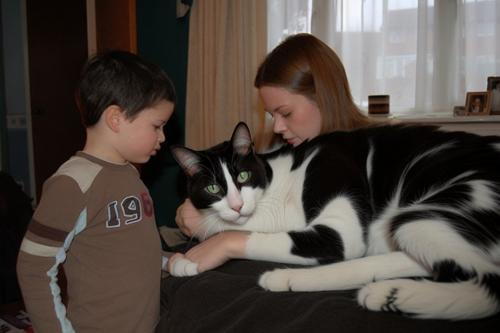cat: (167, 121, 500, 333)
person: (157, 34, 448, 333), (17, 48, 211, 333)
person/hand: (225, 197, 289, 240), (168, 248, 211, 274)
person/head: (78, 51, 178, 162), (258, 35, 350, 154)
